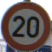20 km speed: (1, 1, 51, 52)
